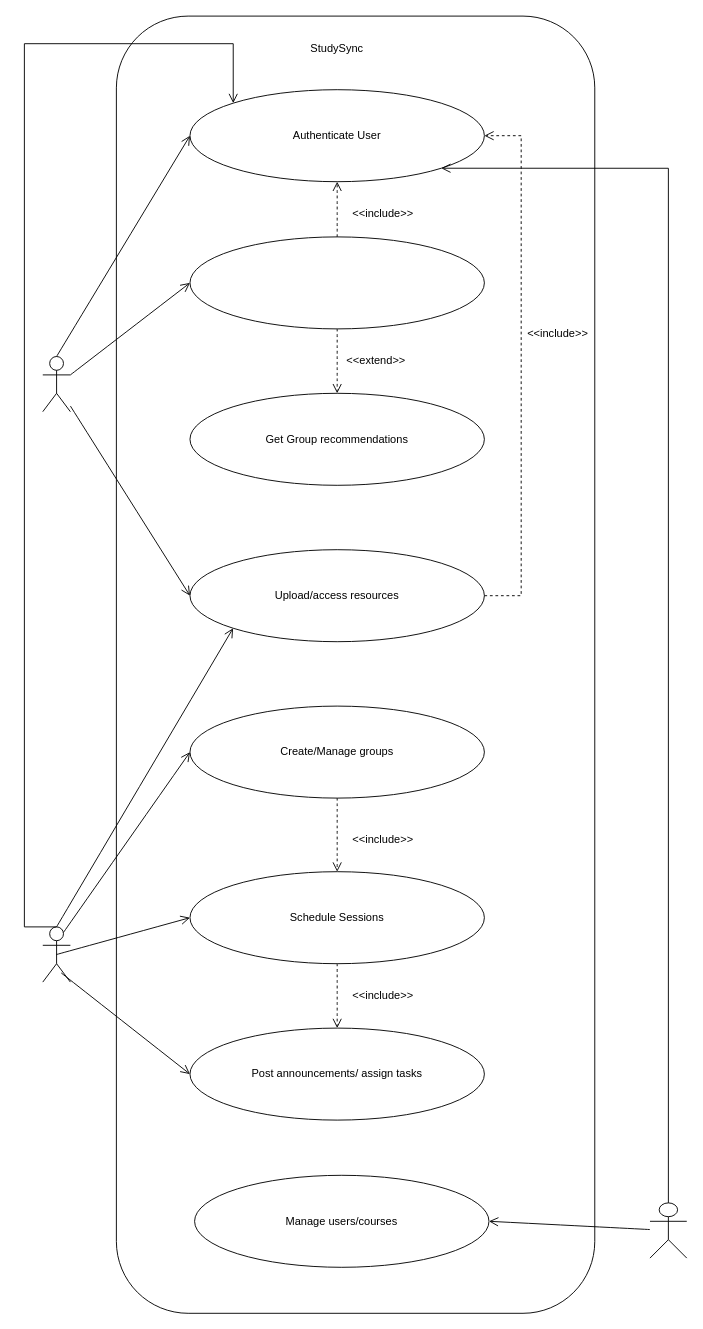
The diagram is 703 pixels wide and 1329 high, and some of its shapes have lost their labels. Here are the shapes that lost their labels. From the top down, the box of each, then its label:
(189, 236, 484, 329): Browse/ join study groups
(42, 356, 70, 412): Student
(42, 926, 70, 982): Group Leader
(649, 1202, 687, 1258): Admin
